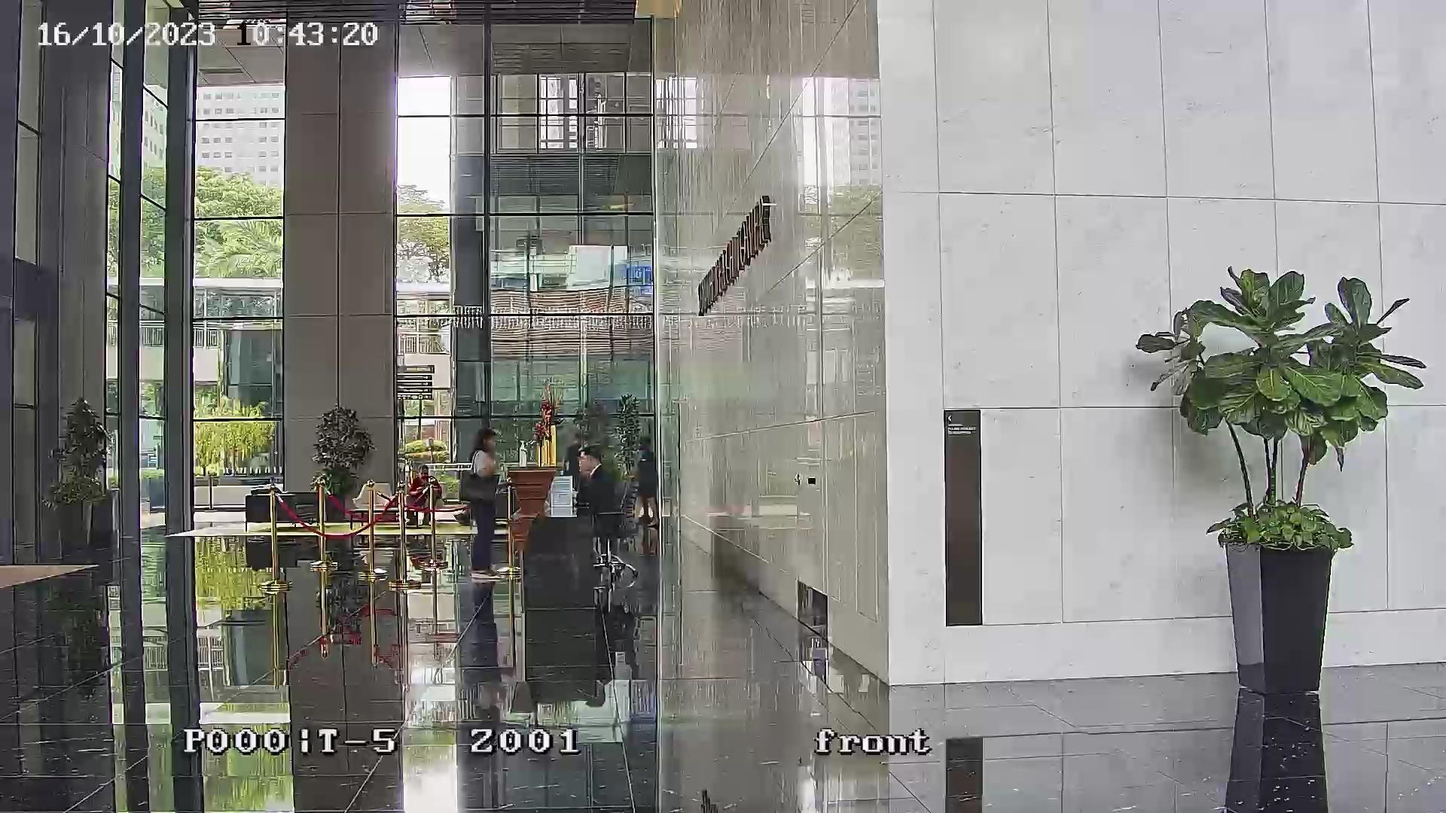person: (462, 424, 502, 578), (575, 445, 619, 533), (634, 435, 666, 531), (404, 463, 445, 530)
